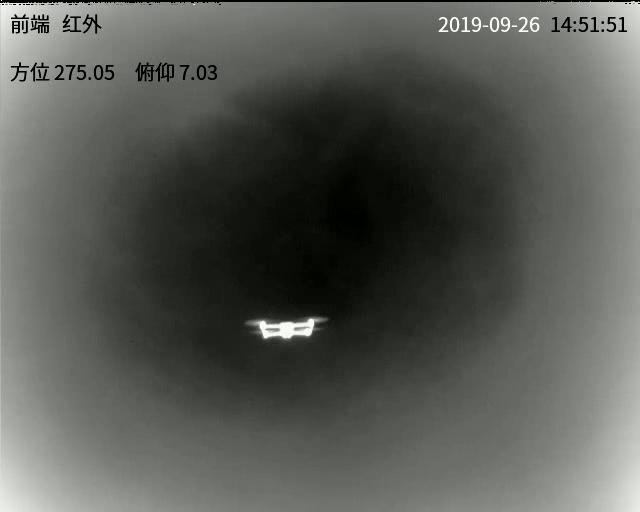DRONE: (247, 315, 325, 339)
